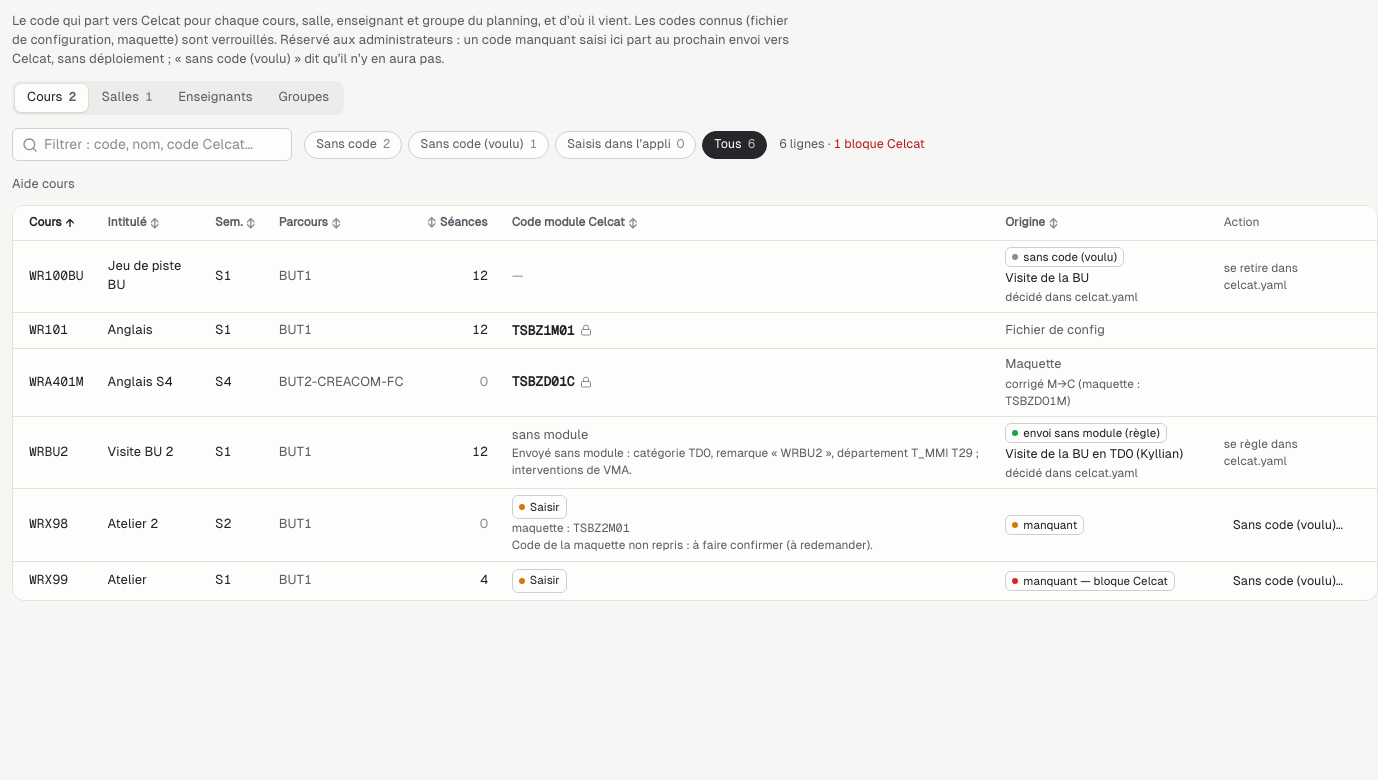
Scenario: Référence — Codes Celcat › saisit un code manquant en ligne, avec les codes relevés en suggestion
Expected: the text "WRX99" is shown, x1=13 y1=561 x2=96 y2=600
Click the button with aria-label "Saisir — Code module Celcat de Atelier (WRX99)" at (539, 581), box x1=512 y1=569 x2=567 y2=593
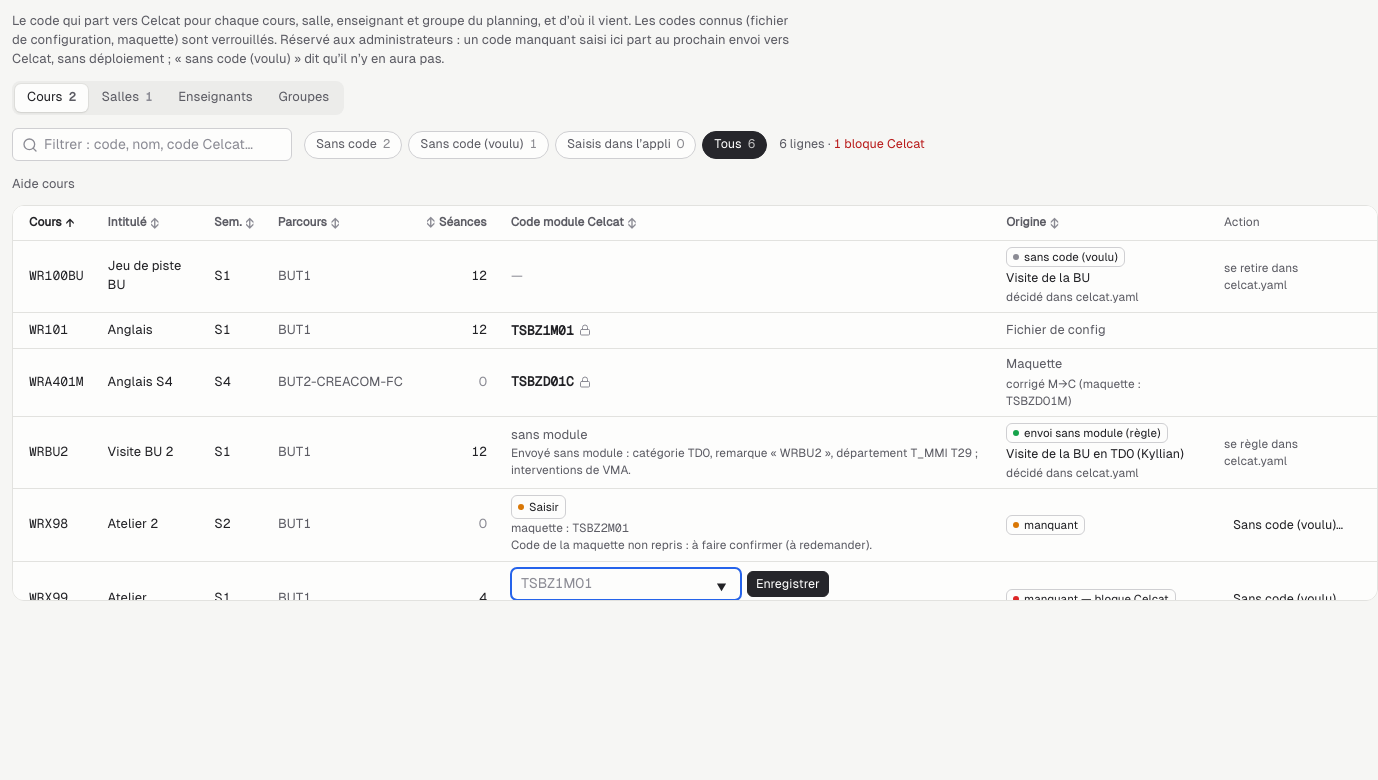
Type "TSBZ2M01" into the field named "Code module Celcat de Atelier (WRX99)" at (626, 584), box x1=511 y1=568 x2=741 y2=600
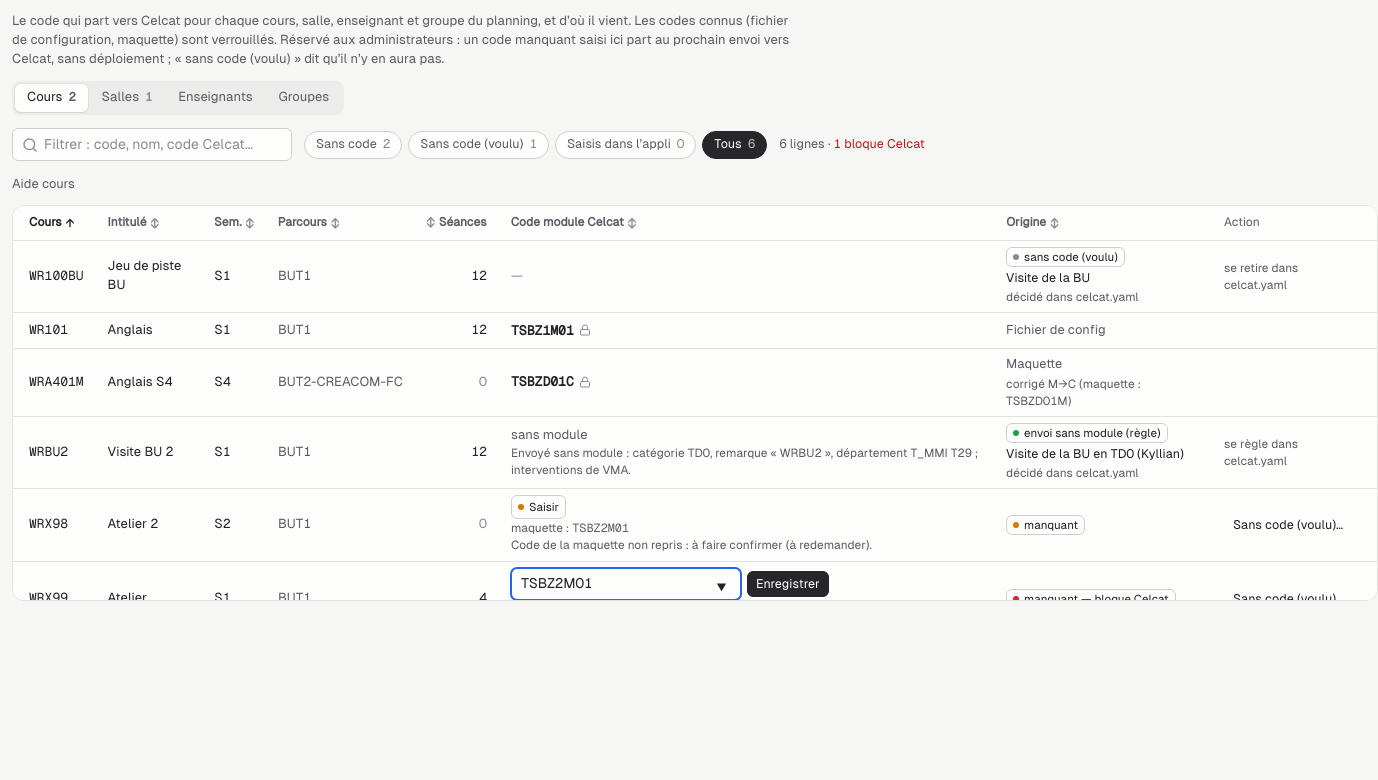
Submit the form named "Code module Celcat de Atelier (WRX99)", box x1=511 y1=568 x2=829 y2=630
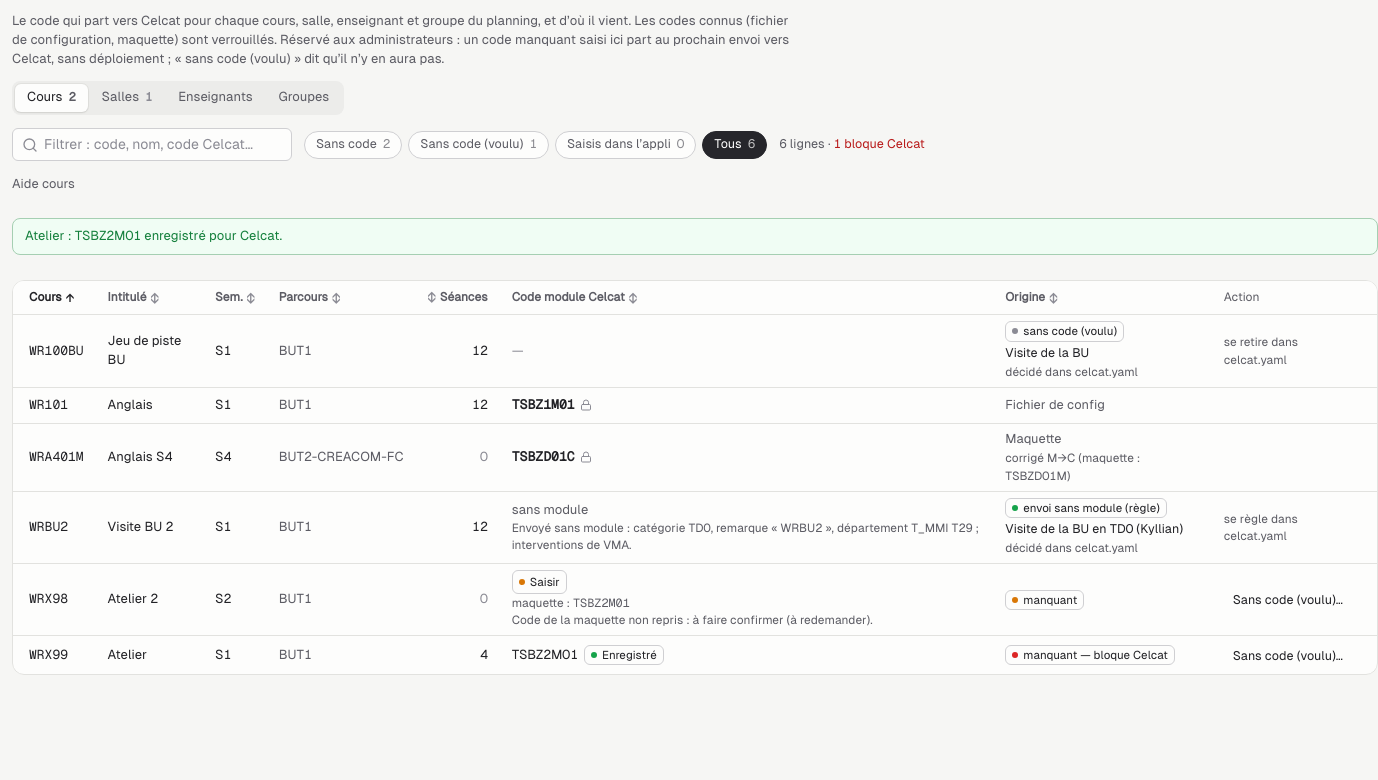
Result: the text "Atelier : TSBZ2M01 enregistré pour Celcat." is shown at x1=12 y1=218 x2=1377 y2=255
